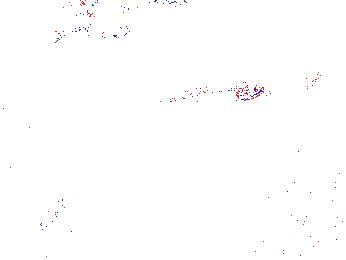X-ray fish: (32, 1, 94, 37)
glassfish: (148, 81, 249, 116)
red belly glassfish: (303, 64, 321, 86)
redtail glassfish: (43, 19, 97, 52), (89, 1, 129, 27), (91, 23, 133, 42), (130, 1, 193, 10)
